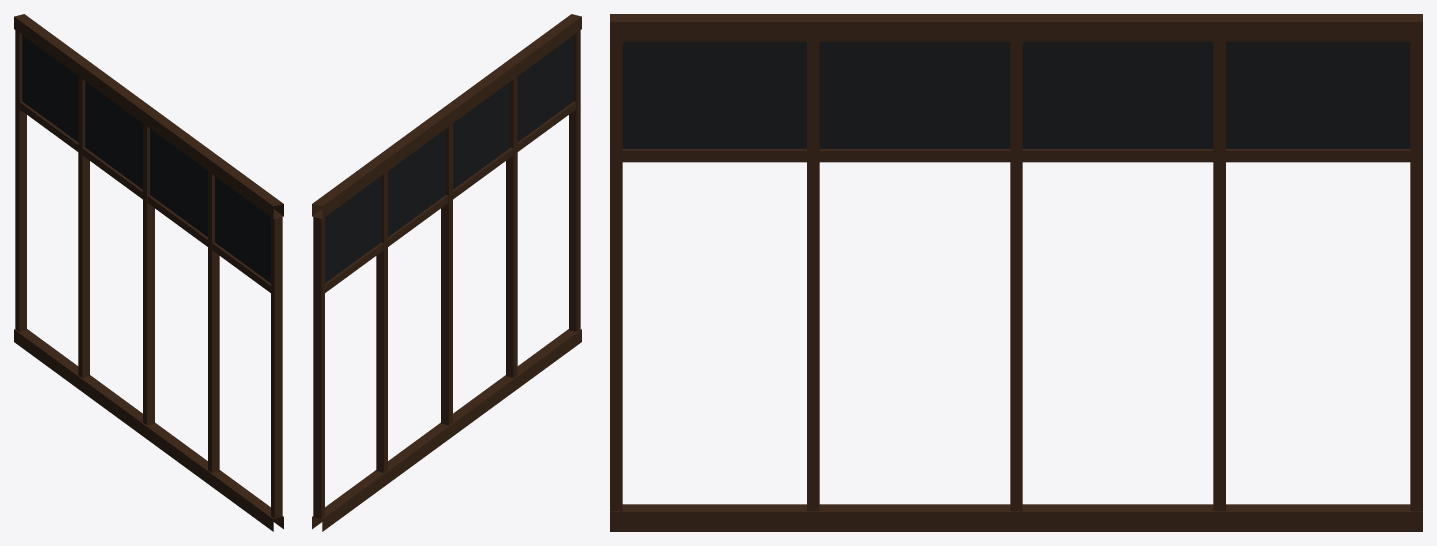
Rendered from glass_partition.glb.
The picture shows the model from 3 angles, left to right: view 1: azimuth 30°, elevation 25°; view 2: azimuth 150°, elevation 25°; view 3: azimuth 270°, elevation 25°; orthographic projection. The views are drawn at different scales.
Parts seen in each view (by area): view 1: glass_partition; view 2: glass_partition; view 3: glass_partition.
Boxes of the visible parts, box(x1,y1,x2,y2) form: glass_partition: box(14, 14, 283, 531); glass_partition: box(312, 14, 581, 531); glass_partition: box(610, 14, 1422, 531).
Bounding box in the file's own units: 0.12 × 3.6 × 5.2.
